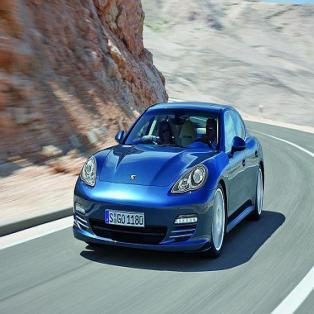Auto: (72, 99, 266, 260)
